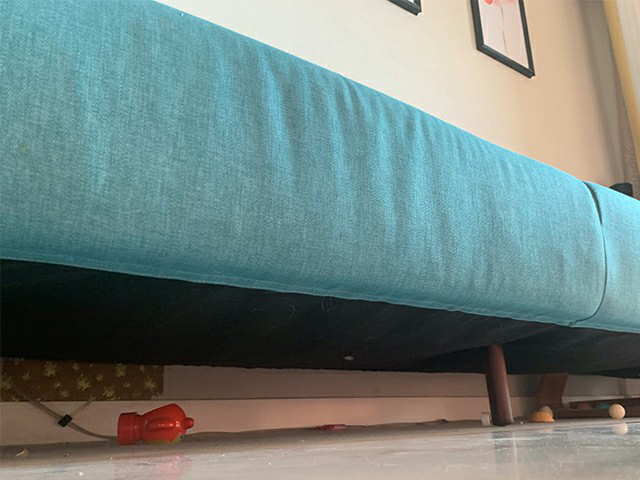sofa: (1, 1, 639, 425)
